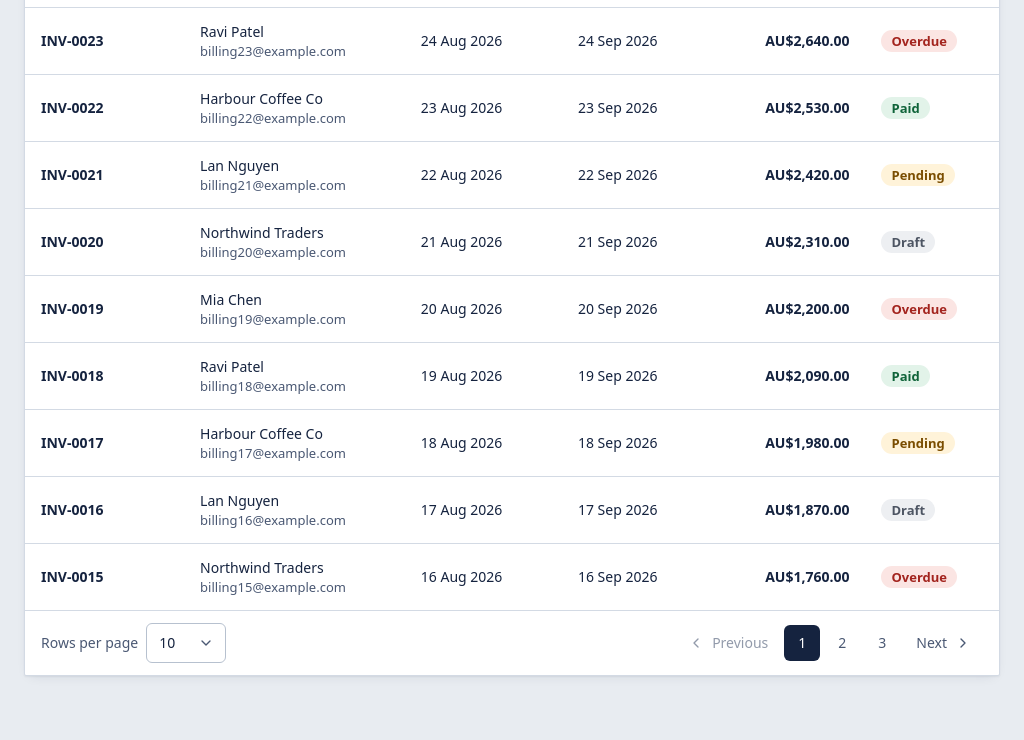
Test case: invoice list › pages through results on the server
The image size is (1024, 740).
(page scrolled)
What coordinates should you click on to do the following:
click the button with aria-label "Next page"
I would click on:
 (944, 643)
Its box is [904,625,983,661].
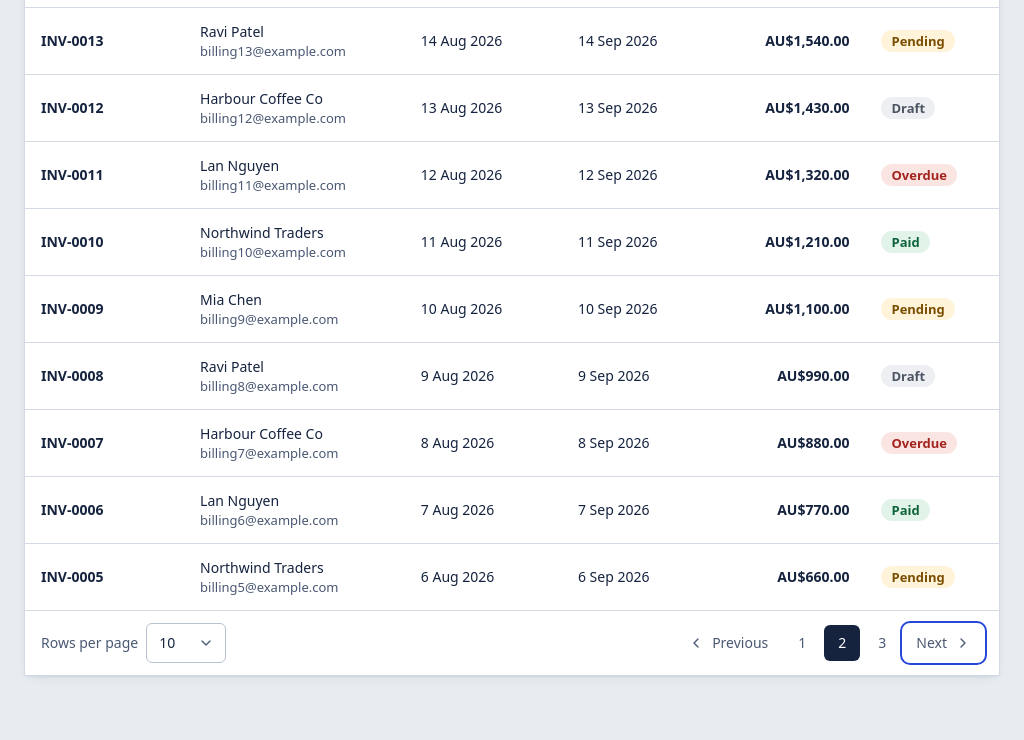
What coordinates should you click on to do the following:
click the button named "Page 3"
I would click on:
 (882, 643)
Its box is [864,625,900,661].
(page scrolled)
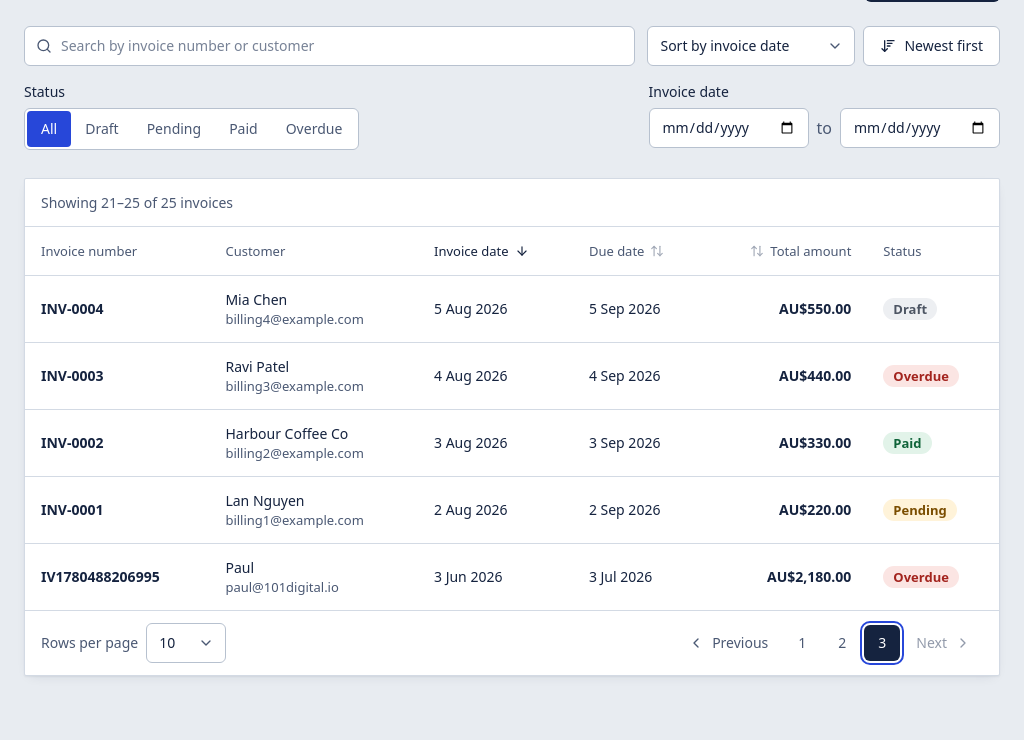
Expected: the text "Showing 21–25 of 25 invoices" is shown, [41,192,233,212]
Expected: the button with aria-label "Next page" is disabled, [904,625,983,661]
